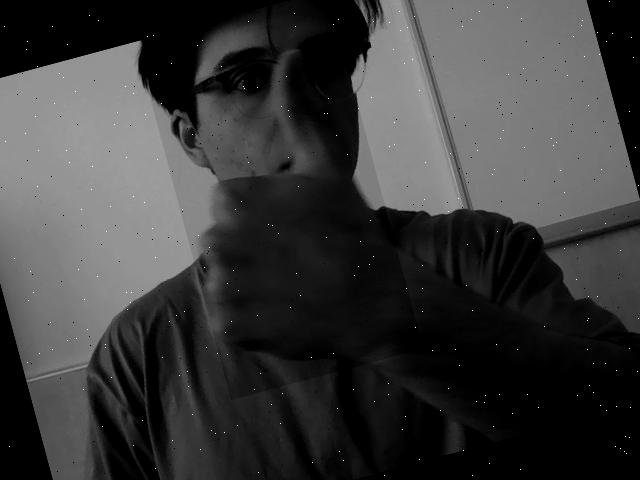good: (201, 51, 405, 371)
